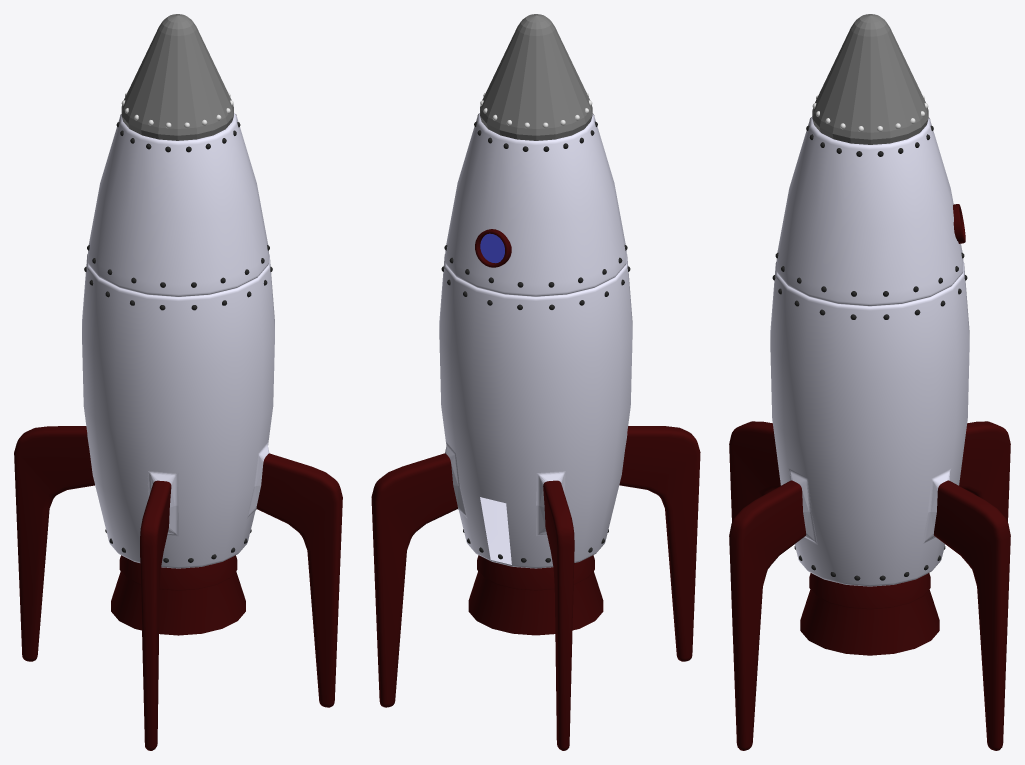
Rendered from FINCOHETE.fbx.
3 views of the same model, side by side, from view 1: azimuth 30°, elevation 25°; view 2: azimuth 150°, elevation 25°; view 3: azimuth 270°, elevation 25° (orthographic). The views are drawn at different scales.
Visible parts, largest first — view 1: SM_Cohete_Cuerpo_001, SM_Cohete_Cuerpo_002, SM_Patitas_Cohete_001, SM_Cohete_Cuerpo_003, SM_Eyector_Cohete_001, SM_Patitas_Cohete_Enganches_001; view 2: SM_Cohete_Cuerpo_001, SM_Cohete_Cuerpo_002, SM_Patitas_Cohete_001, SM_Cohete_Cuerpo_003, SM_Eyector_Cohete_001, SM_Patitas_Cohete_Enganches_001, SM_Ventana_Marco_001, SM_Ventana_Cristal; view 3: SM_Cohete_Cuerpo_001, SM_Cohete_Cuerpo_002, SM_Patitas_Cohete_001, SM_Cohete_Cuerpo_003, SM_Eyector_Cohete_001, SM_Patitas_Cohete_Enganches_001.
Boxes of the visible parts, x1=… form: SM_Cohete_Cuerpo_001: x1=82, y1=254, x2=274, y2=568; SM_Cohete_Cuerpo_002: x1=88, y1=113, x2=268, y2=296; SM_Patitas_Cohete_001: x1=14, y1=426, x2=342, y2=750; SM_Cohete_Cuerpo_003: x1=121, y1=14, x2=233, y2=140; SM_Eyector_Cohete_001: x1=111, y1=555, x2=245, y2=635; SM_Patitas_Cohete_Enganches_001: x1=87, y1=435, x2=269, y2=536; SM_Cohete_Cuerpo_001: x1=439, y1=254, x2=632, y2=568; SM_Cohete_Cuerpo_002: x1=445, y1=113, x2=626, y2=296; SM_Patitas_Cohete_001: x1=371, y1=426, x2=700, y2=750; SM_Cohete_Cuerpo_003: x1=480, y1=14, x2=592, y2=140; SM_Eyector_Cohete_001: x1=468, y1=555, x2=603, y2=635; SM_Patitas_Cohete_Enganches_001: x1=445, y1=434, x2=627, y2=535; SM_Ventana_Marco_001: x1=475, y1=229, x2=511, y2=267; SM_Ventana_Cristal: x1=480, y1=233, x2=504, y2=263; SM_Cohete_Cuerpo_001: x1=770, y1=261, x2=969, y2=586; SM_Cohete_Cuerpo_002: x1=776, y1=116, x2=963, y2=306; SM_Patitas_Cohete_001: x1=729, y1=421, x2=1010, y2=750; SM_Cohete_Cuerpo_003: x1=812, y1=14, x2=928, y2=144; SM_Eyector_Cohete_001: x1=800, y1=573, x2=939, y2=655; SM_Patitas_Cohete_Enganches_001: x1=788, y1=469, x2=951, y2=544.
Size of the model in its own units: 385 by 450 by 1217.
